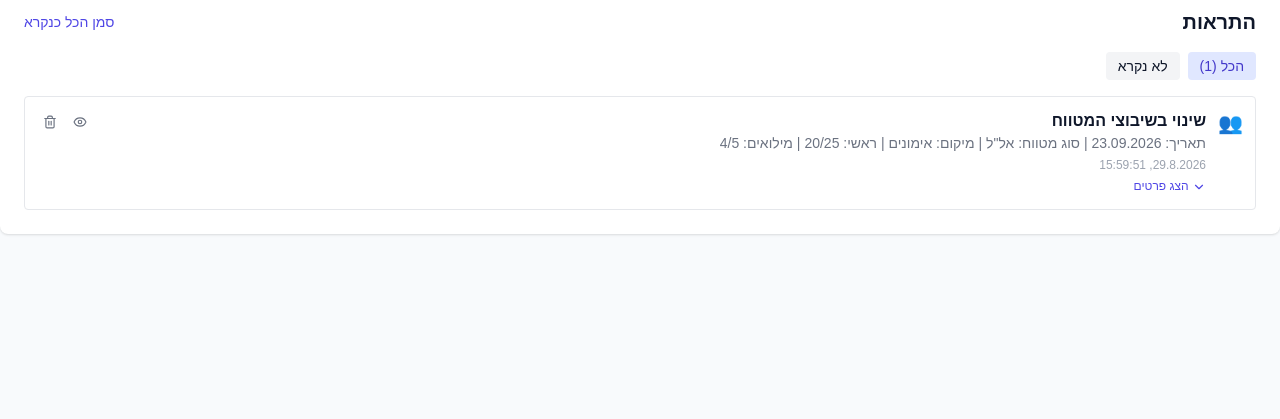
it: NotificationsPage › translates system notifications and expands the full details
Expected: the button "שינוי בשיבוצי המטווח" is shown, [1052, 109, 1206, 133]
What coordinates should you click on to do the following:
click the button "הצג פרטים"
I would click on:
 (1170, 186)
Its box is [1134, 178, 1206, 194].
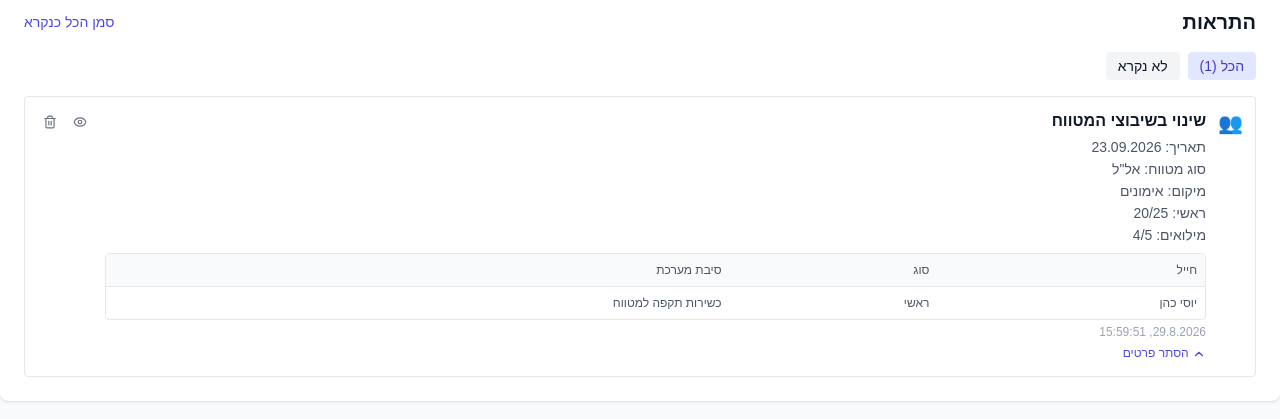
Expected: the column heading "חייל" is shown, [937, 254, 1205, 286]
Expected: the column heading "סוג" is shown, [730, 254, 937, 286]
Expected: the column heading "סיבת מערכת" is shown, [106, 254, 730, 286]
